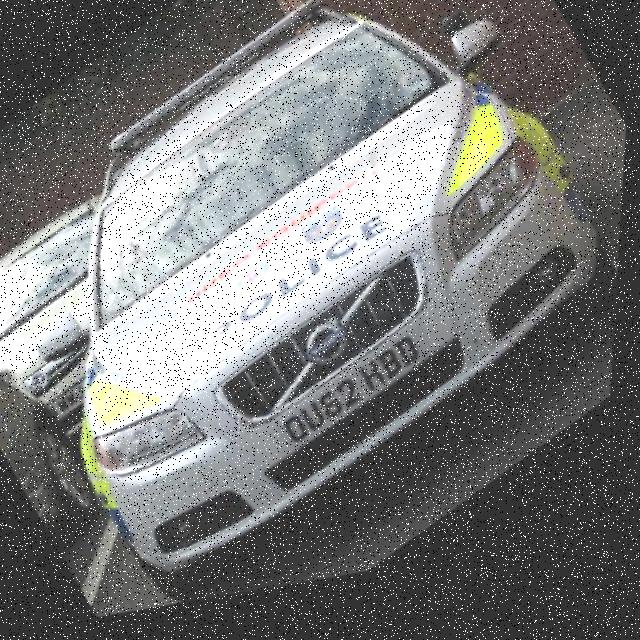license_plate: (270, 328, 440, 473), (51, 380, 98, 424)
